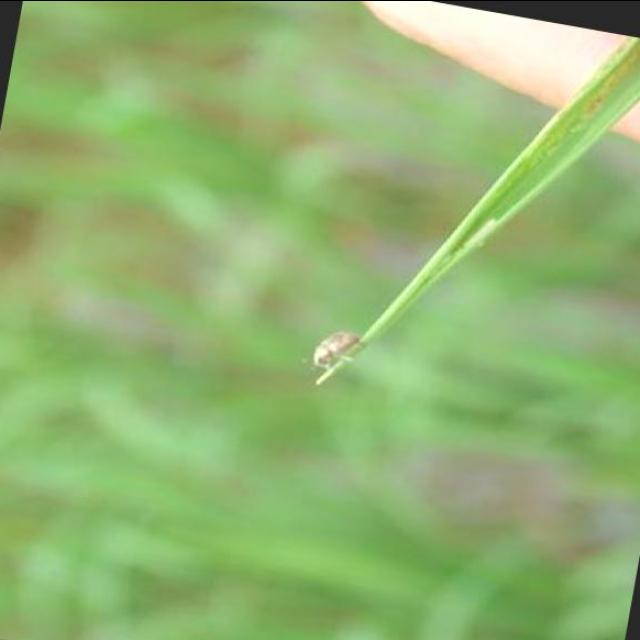ricebug: (312, 331, 361, 367)
